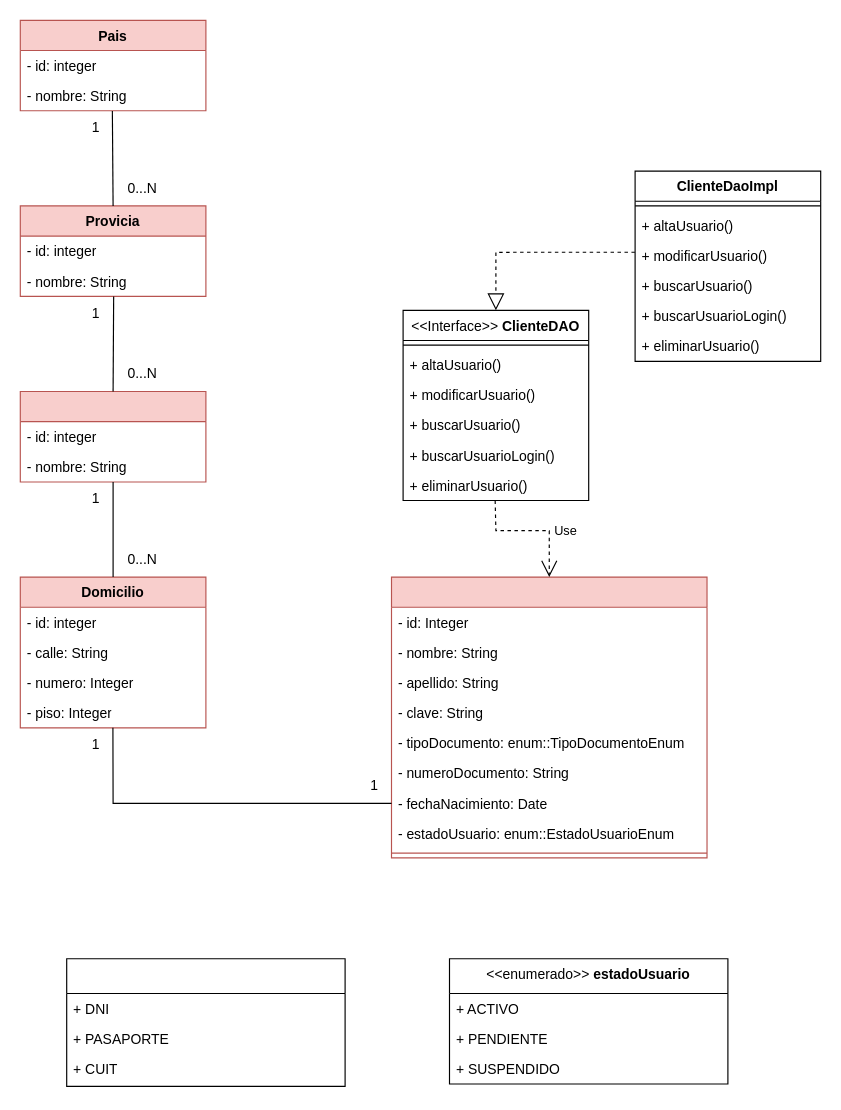
The diagram is 841 pixels wide and 1110 high, and some of its shapes have lost their labels. The box of each missing label's shape, as (x1, y1, x2, y2) in pixels:
<<enumerado>> accionRealizar: (66, 958, 345, 1086)
Cliente: (390, 576, 707, 858)
Localidad: (19, 390, 206, 482)
